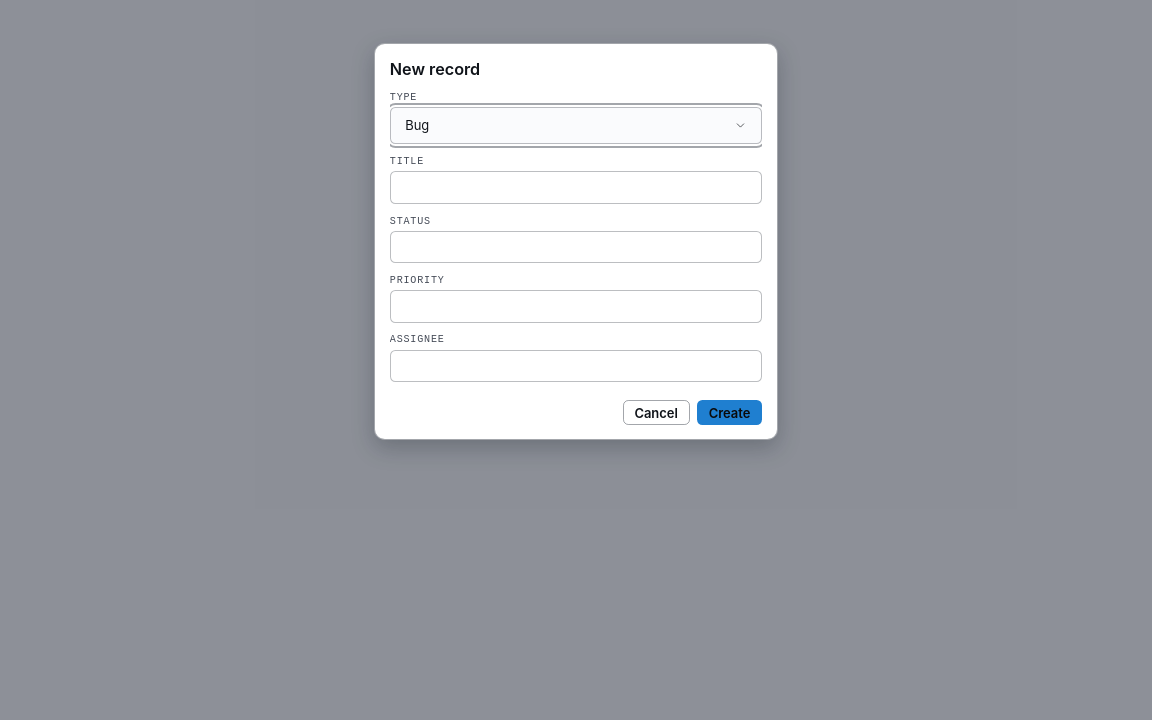
Test case: TrackerRecordDialog — "<type-id>:" title prefix picks the type (v7 decision F3-1; issue #673) › the longest matching type id wins, so "bug-report:" picks Bug Report rather than being shadowed by the shorter "bug" id
Type "bug-report: crash on save" into the field with test id "tracker-record-title".
click(576, 188); type("bug-report: crash on save")  # box top-left (390, 171), bottom-right (762, 204)
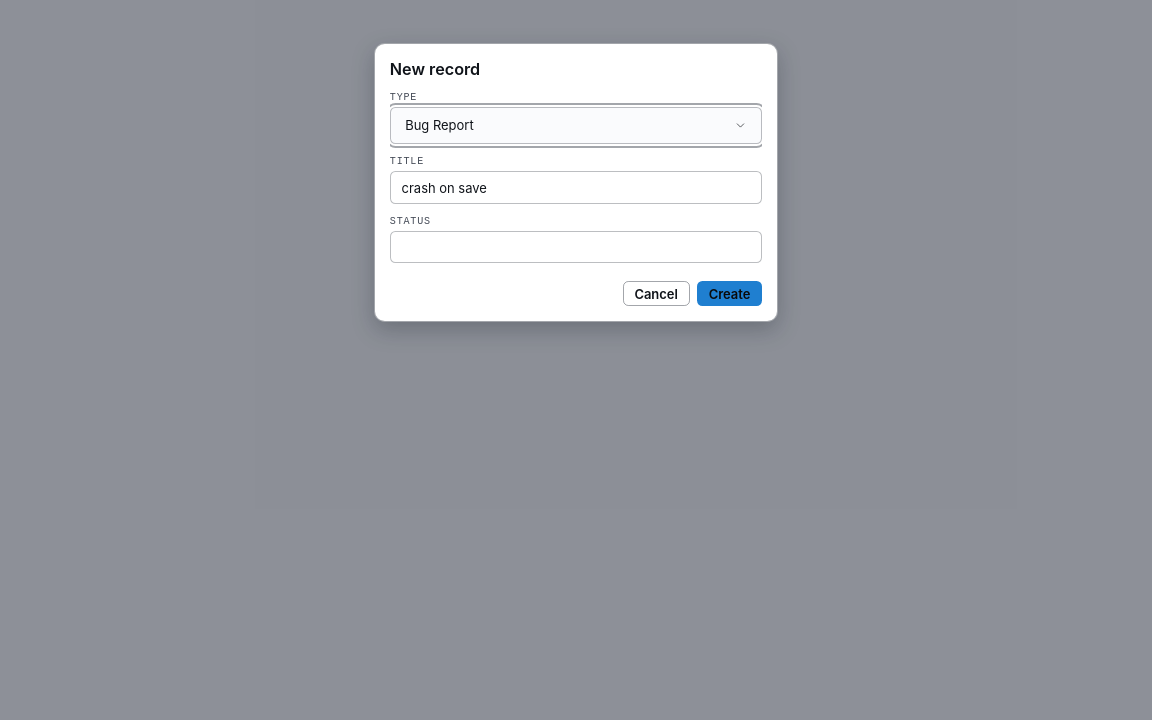
Check: the dropdown with test id "tracker-record-type-trigger" reads "Bug Report", box top-left (390, 107), bottom-right (762, 144)
Check: the field with test id "tracker-record-title" holds "crash on save", box top-left (390, 171), bottom-right (762, 204)
